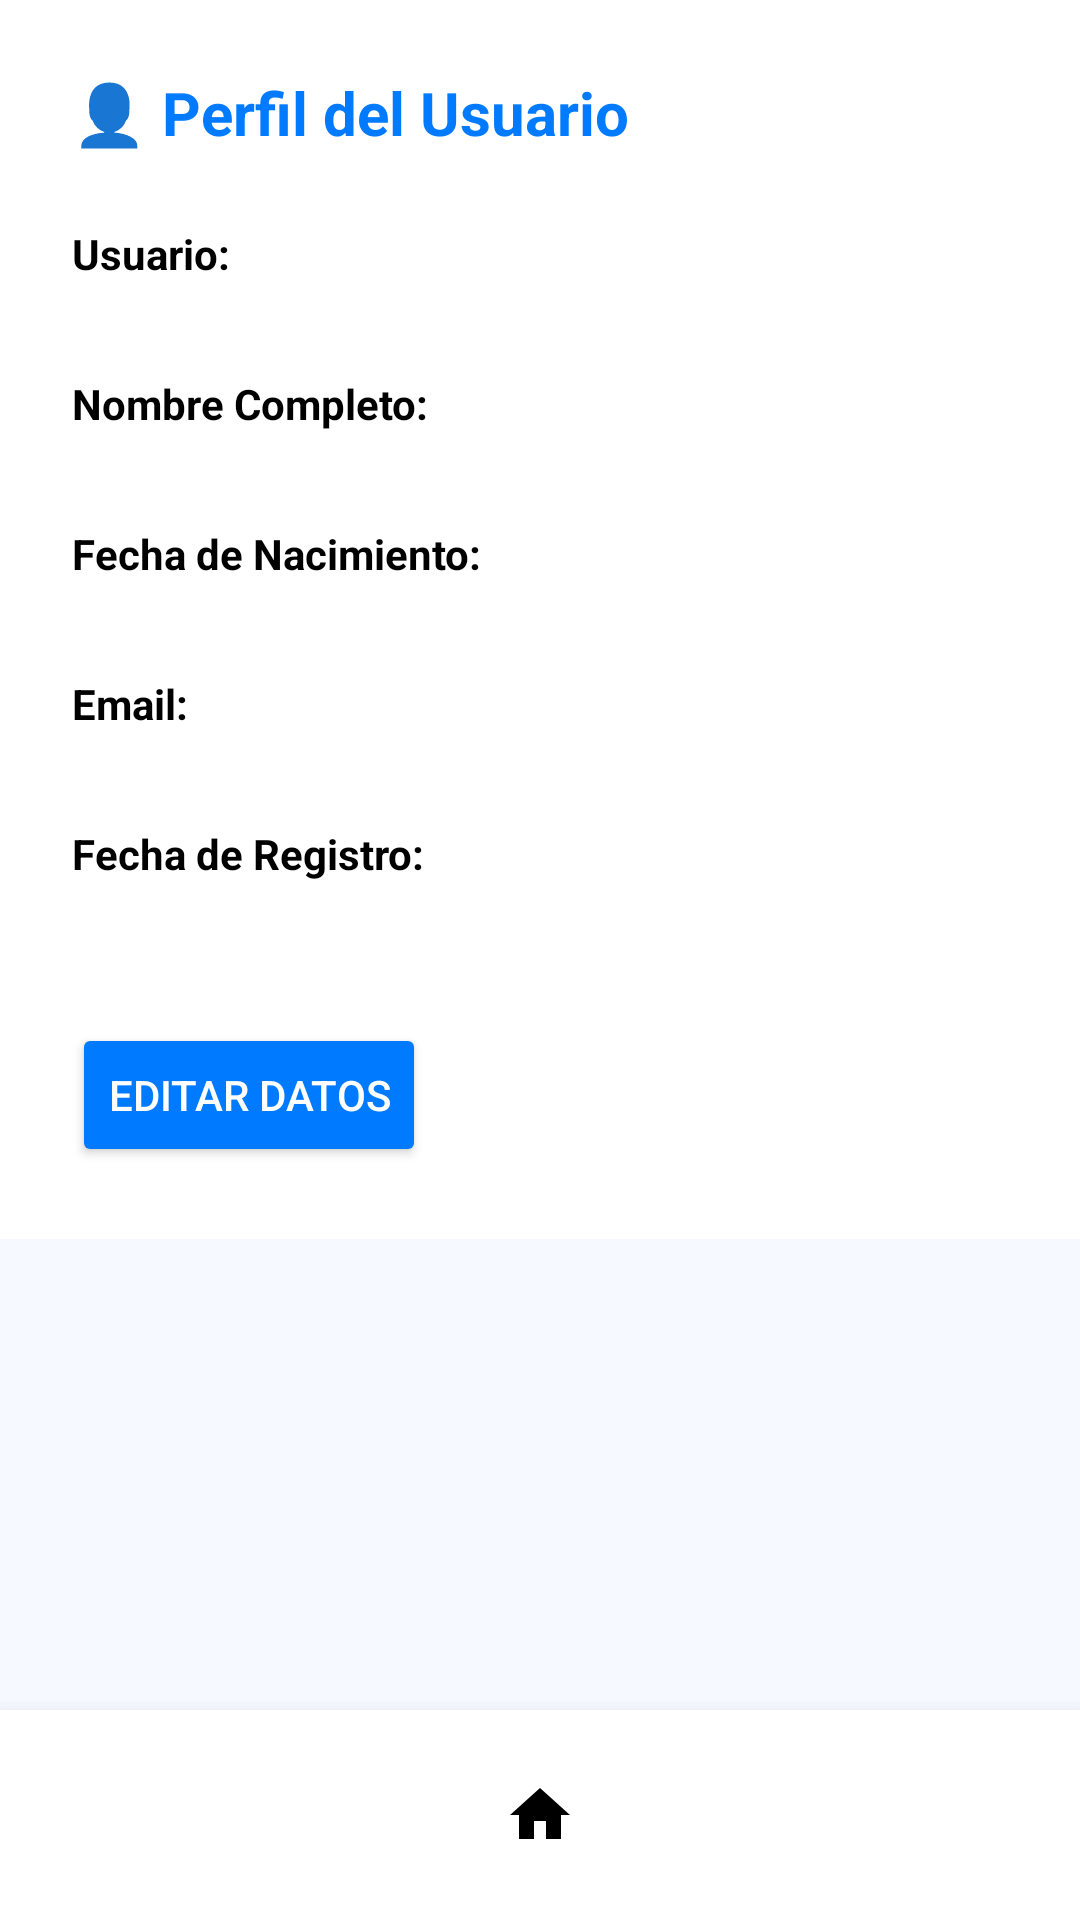

Locate icon controls on the screen. Image size 1080 × 1920, boxes as (left=x1, top=y1, right=x2, bottom=y2).
Inicio: (left=510, top=1788, right=570, bottom=1839)
